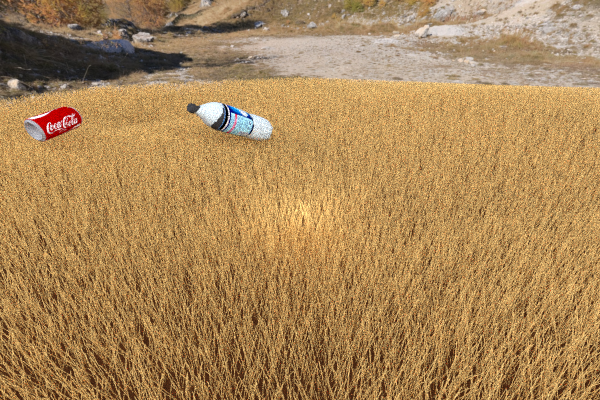bottle: (186, 102, 272, 141)
can: (24, 106, 82, 141), (333, 100, 377, 126)
